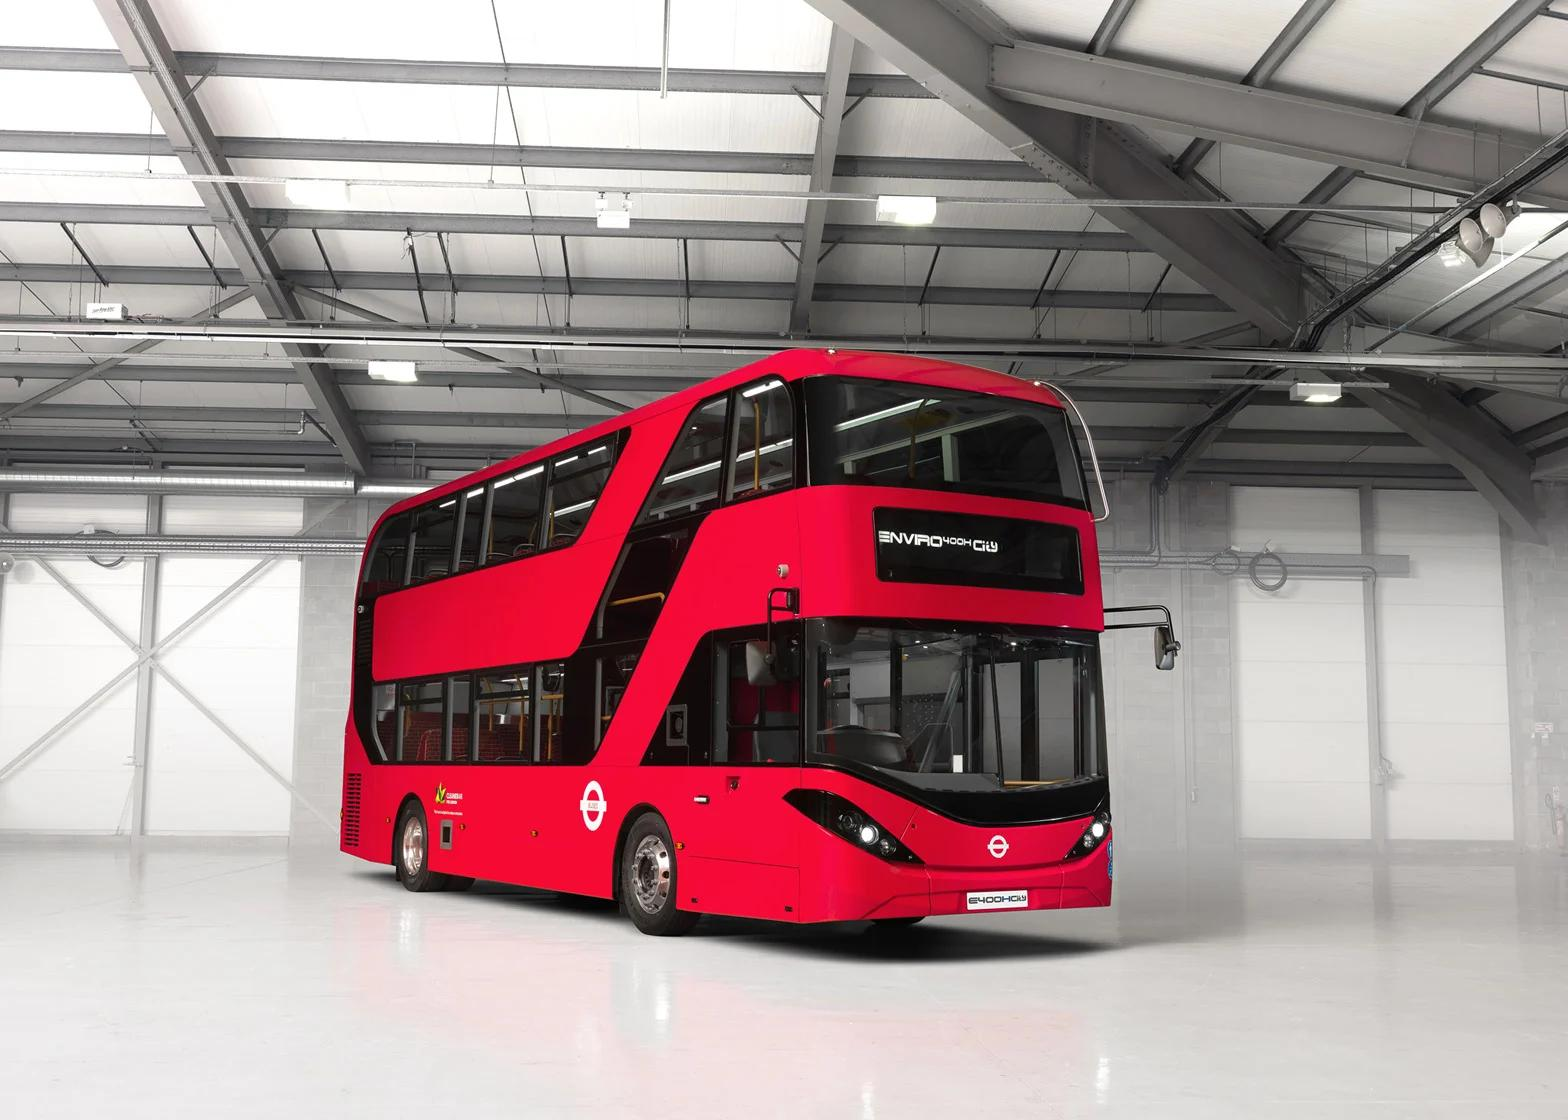bus: (334, 342, 1188, 962)
